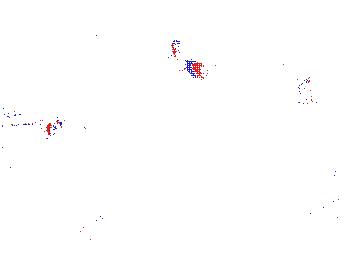glassfish: (1, 111, 69, 138)
redtail glassfish: (283, 45, 340, 76), (168, 37, 202, 82), (295, 81, 315, 108)
